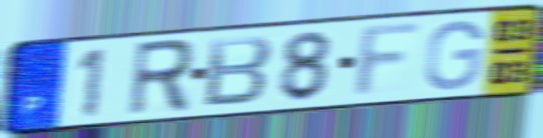1: (75, 46, 108, 119)
8: (278, 29, 335, 104)
B: (201, 33, 275, 110)
F: (349, 18, 428, 101)
G: (422, 18, 487, 93)
R: (124, 36, 196, 120)
